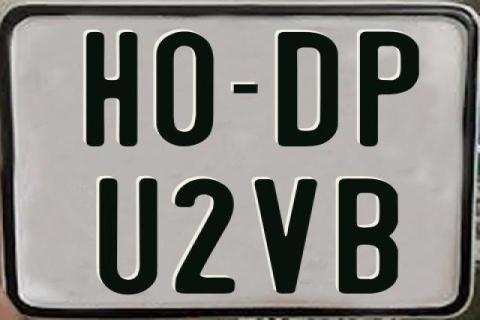0: (173, 178, 239, 294), (153, 29, 213, 145)
B: (338, 178, 399, 294)
D: (278, 30, 342, 146)
H: (86, 32, 139, 148)
P: (360, 29, 422, 147)
U: (99, 177, 162, 296)
V: (254, 179, 319, 297)
